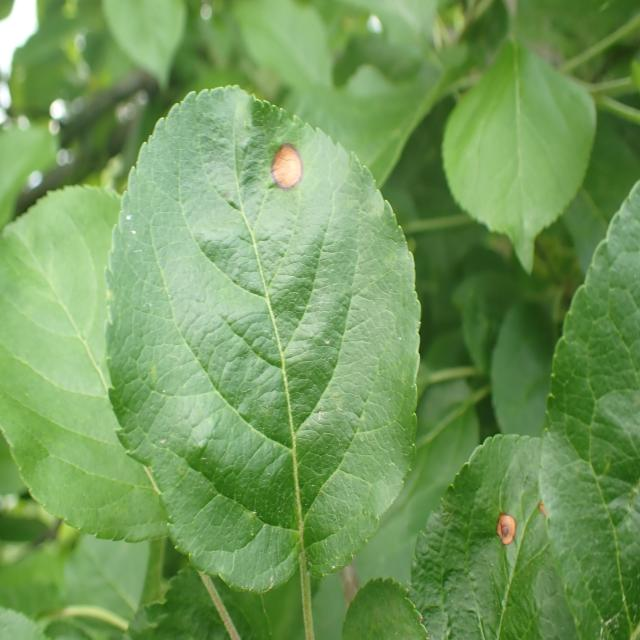frog-eye-leaf-spot: (104, 83, 422, 594), (408, 177, 640, 640)
